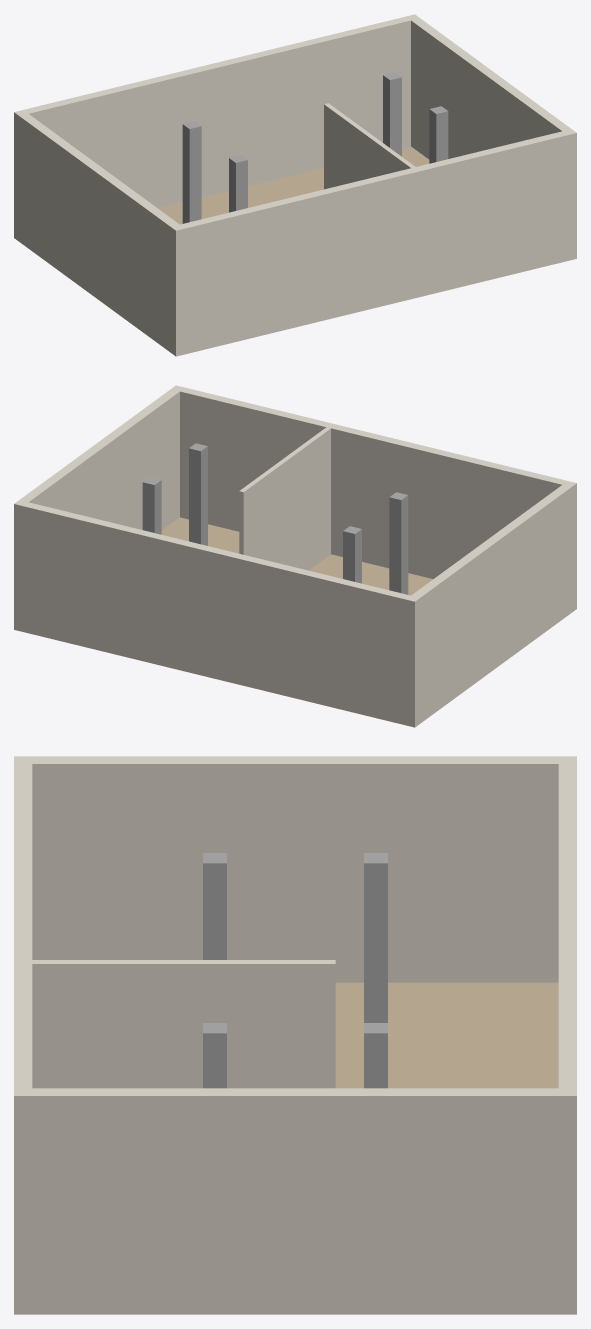
File: sample_floorplan.dae
The picture shows the model from 3 angles, top to bottom: view 1: azimuth 30°, elevation 25°; view 2: azimuth 150°, elevation 25°; view 3: azimuth 270°, elevation 25°; orthographic projection. The views are drawn at different scales.
Visible parts, largest first — view 1: A-WALL, A-COLS, A-FLOR; view 2: A-WALL, A-COLS, A-FLOR; view 3: A-WALL, A-FLOR, A-COLS.
Boxes of the visible parts, x1,y1,x2,y2 form: A-WALL: (14,14,576,356); A-COLS: (182,72,448,223); A-FLOR: (158,146,429,224); A-WALL: (14,385,576,727); A-COLS: (142,443,408,594); A-FLOR: (161,517,432,595); A-WALL: (14,756,576,1314); A-FLOR: (335,982,558,1088); A-COLS: (203,853,387,1088).
Size of the model in its own units: 10000 by 7000 by 3000.
